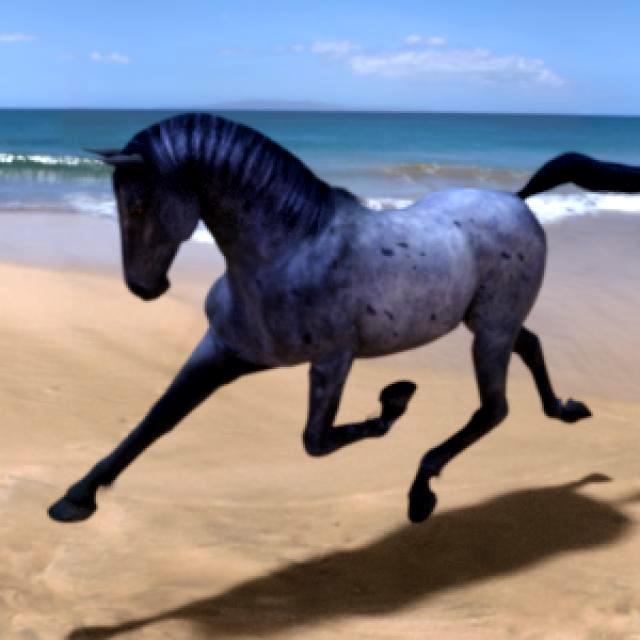horse: (51, 114, 640, 522)
